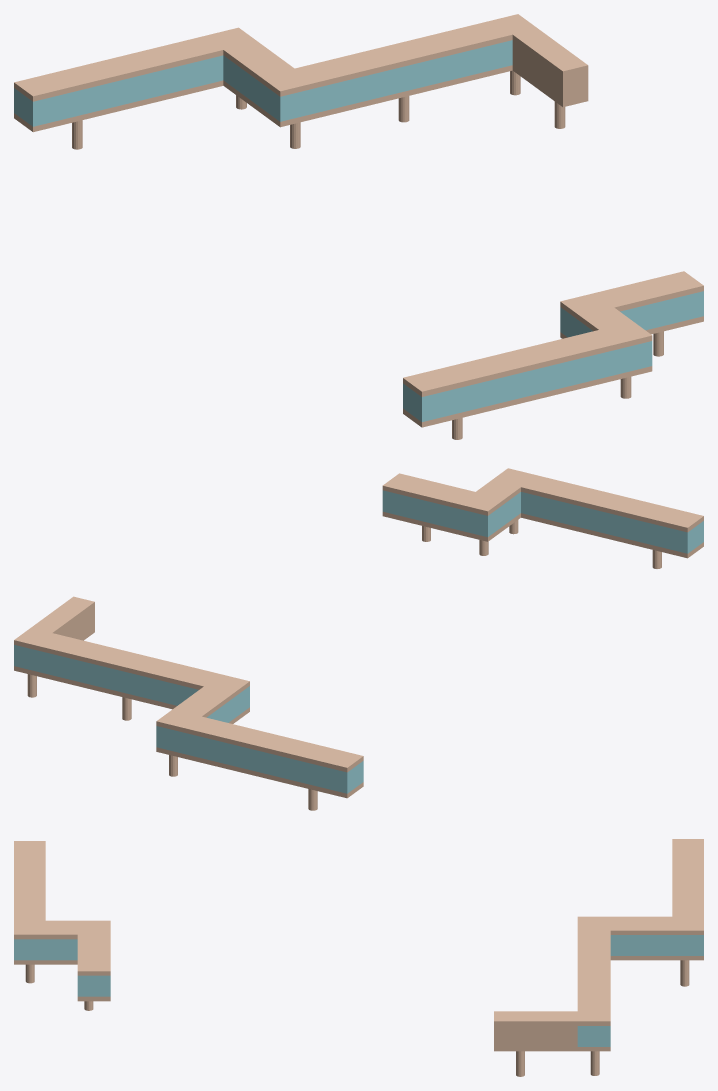
File: 101MainbridgeFixed1.fbx
The picture shows the model from 3 angles, top to bottom: view 1: azimuth 30°, elevation 25°; view 2: azimuth 150°, elevation 25°; view 3: azimuth 270°, elevation 25°; orthographic projection. The views are drawn at different scales.
Visible parts, largest first — view 1: Cube.027, Cube.023, Cube.038, Cube.037, Cube.024, Cube.036, Cube.001; view 2: Cube.027, Cube.023, Cube.038, Cube.037, Cube.024, Cube.001, Cube.036; view 3: Cube.037, Cube.027, Cube.036, Cube.001, Cube.023, Cube.038, Cube.024.
Part boxes in pixels (x1,y1,x2,y2): Cube.027: (295, 14, 537, 118); Cube.023: (403, 330, 617, 427); Cube.038: (14, 36, 223, 132); Cube.037: (205, 27, 314, 127); Cube.024: (595, 271, 703, 334); Cube.036: (512, 28, 588, 107); Cube.001: (560, 293, 652, 379); Cube.027: (14, 628, 220, 709); Cube.023: (521, 475, 703, 558); Cube.038: (185, 716, 363, 798); Cube.037: (156, 674, 249, 758); Cube.024: (382, 473, 474, 534); Cube.001: (458, 468, 536, 541); Cube.036: (31, 596, 94, 640); Cube.037: (577, 916, 703, 960); Cube.027: (577, 930, 610, 1051); Cube.036: (494, 1011, 577, 1051); Cube.001: (14, 920, 110, 964); Cube.023: (14, 841, 45, 920); Cube.038: (672, 839, 703, 916); Cube.024: (77, 934, 110, 1001).
Bounding box in the file's own units: 142 × 20.97 × 224.
